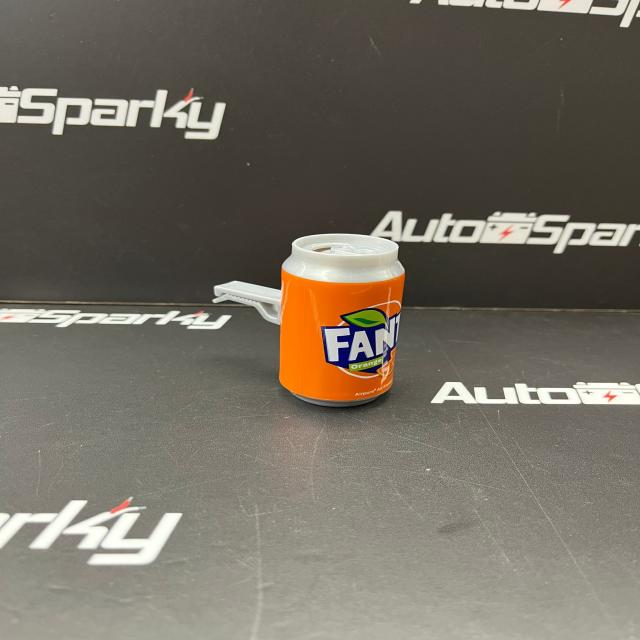fanta: (285, 233, 404, 400)
